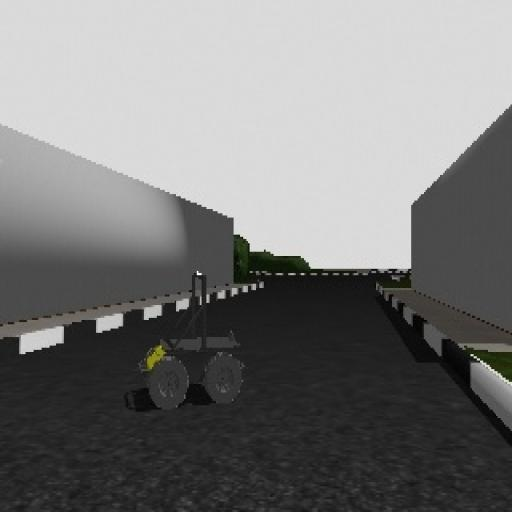huskya200: (117, 257, 263, 422)
